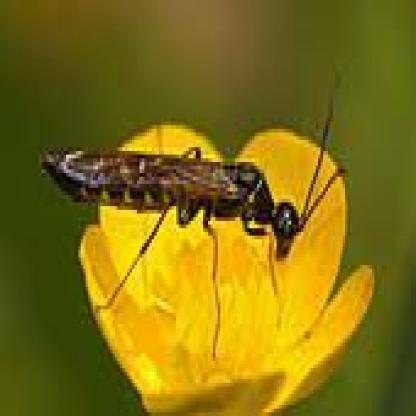sawfly: (38, 62, 348, 344)
